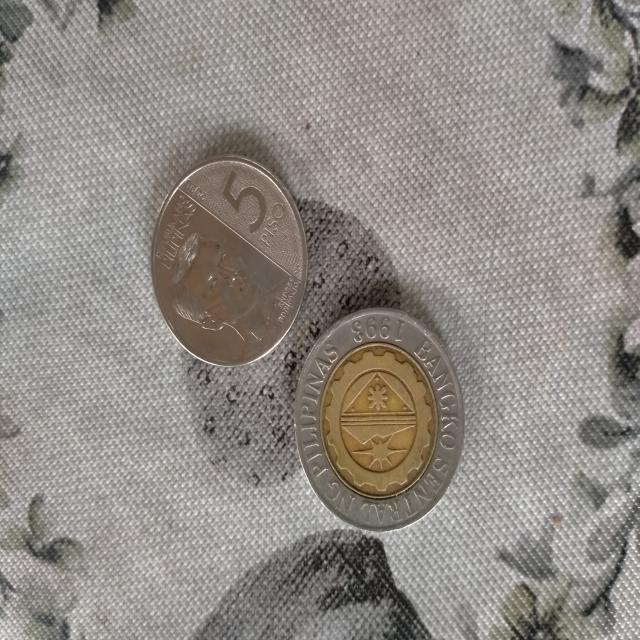10_Old_Back: (294, 303, 462, 530)
5_New_Front: (215, 158, 288, 249)
